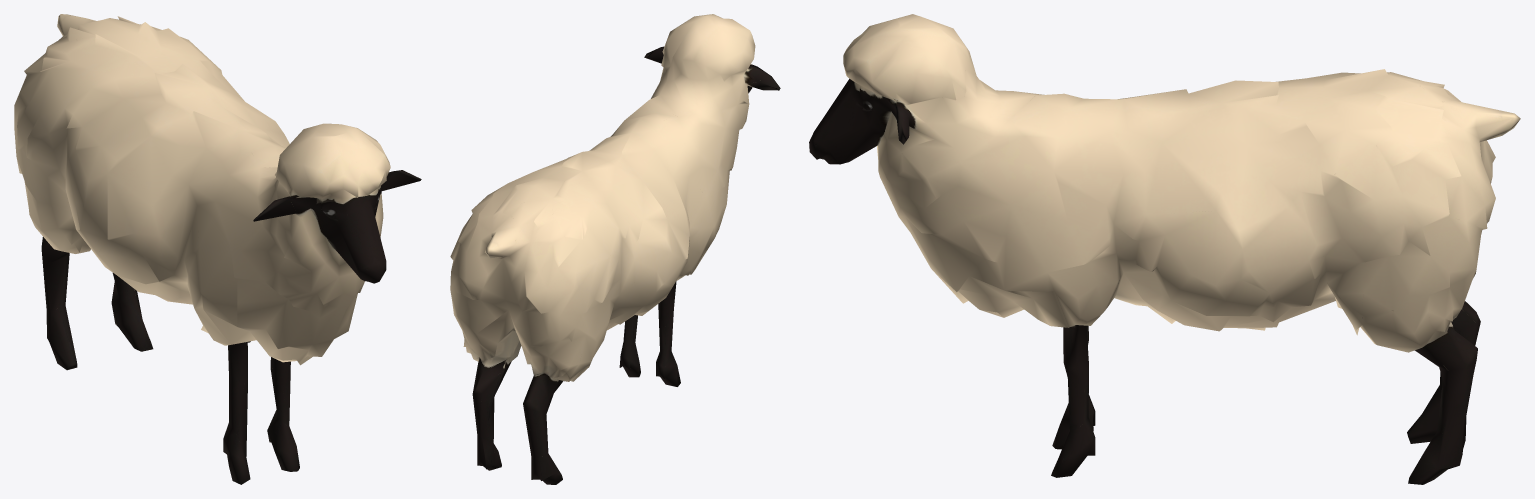
Rendered from koyun.glb.
3 views of the same model, side by side, from view 1: azimuth 30°, elevation 25°; view 2: azimuth 150°, elevation 25°; view 3: azimuth 270°, elevation 25° (orthographic). The views are drawn at different scales.
Bounding box in the file's own units: 0.6951 × 1.29 × 1.9.
Materials: 1 (1 with a texture image).
